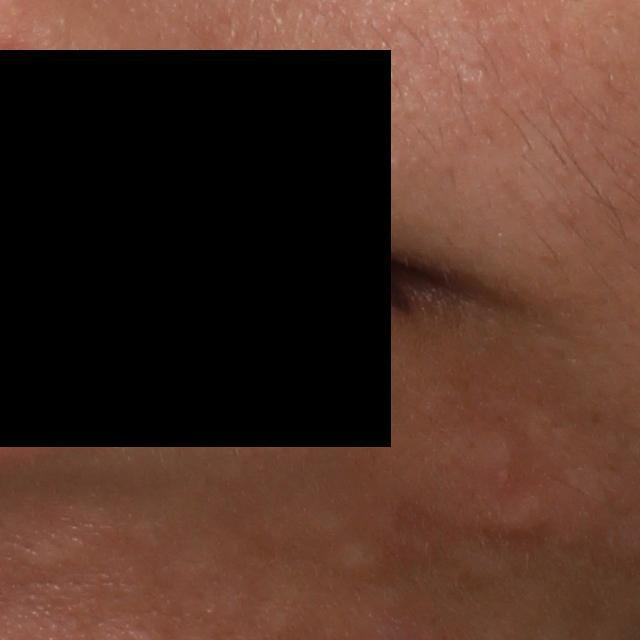hypertrophic_scar: (417, 493, 556, 540), (421, 423, 517, 489), (13, 528, 92, 578), (330, 538, 388, 581)
